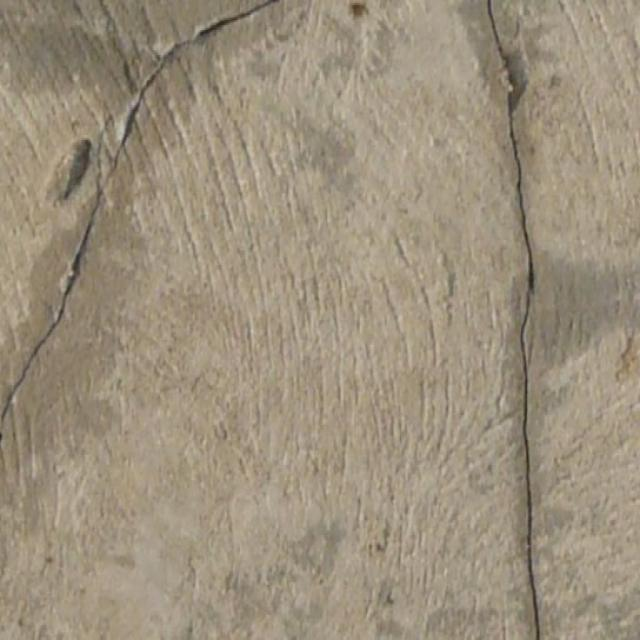Diagonal: (7, 224, 91, 388), (194, 0, 295, 46), (136, 36, 195, 102)
Longitudinal: (472, 0, 555, 640)
Radial: (93, 99, 135, 228)
Turtle-shell patterned: (54, 140, 90, 197)
